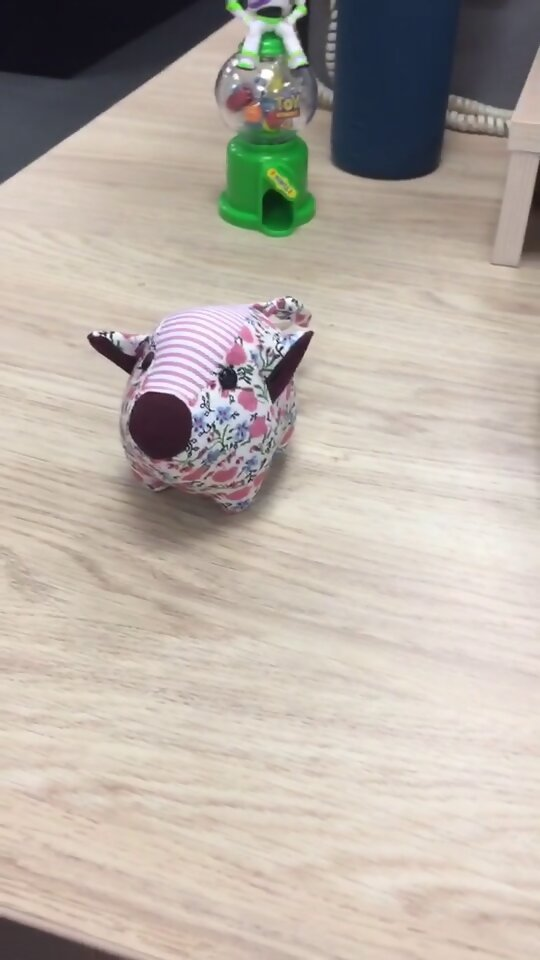pig: (85, 294, 316, 512)
